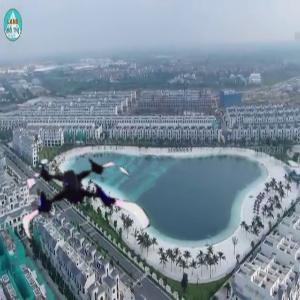drone: (13, 138, 139, 264)
